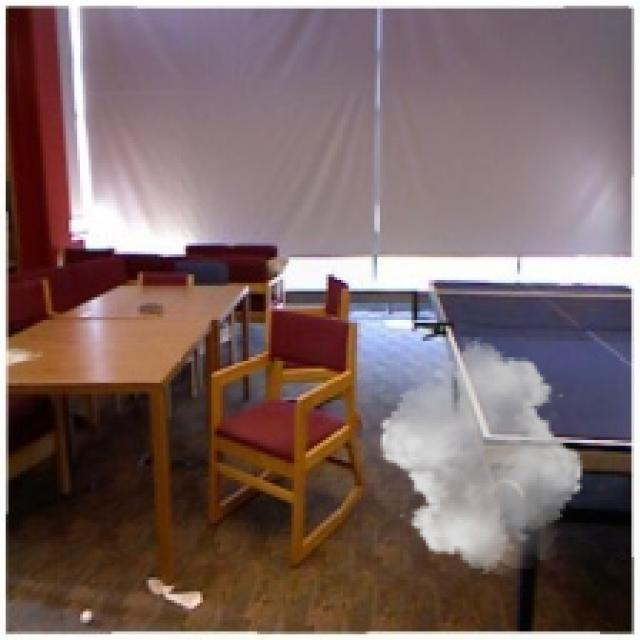Smoke: (372, 337, 592, 574)
